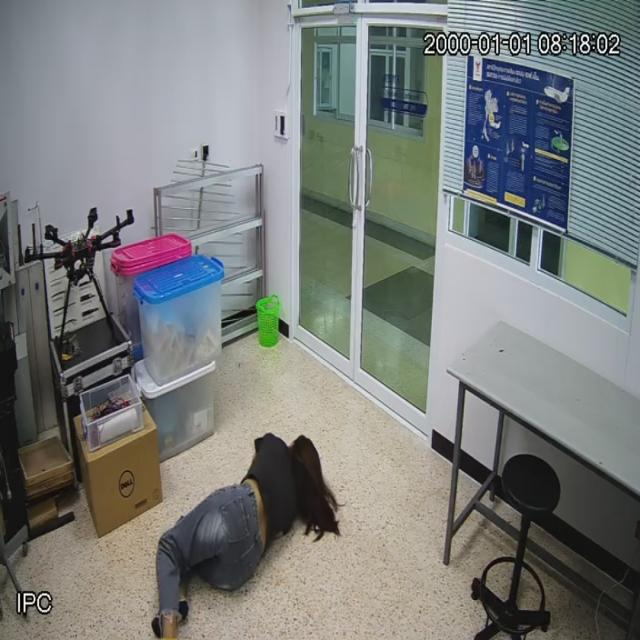fall: (154, 430, 335, 640)
